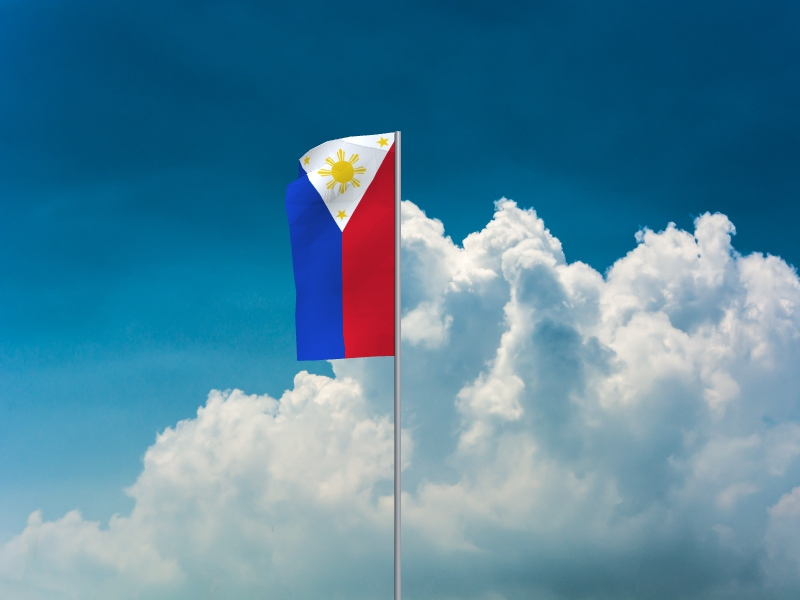ph: (285, 133, 395, 363)
